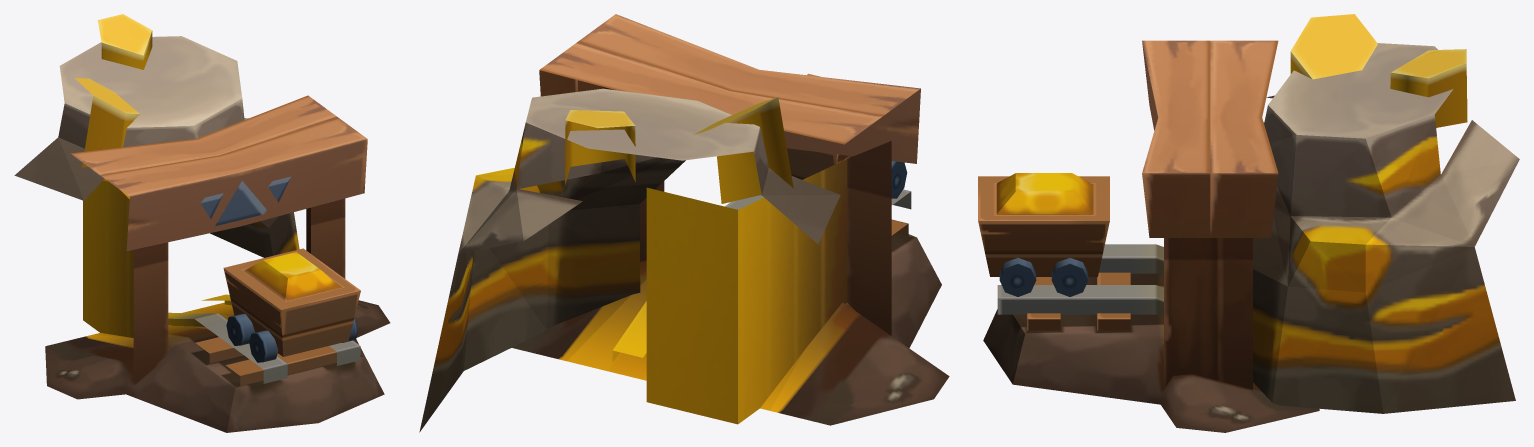
Rendered from B_Goldmin01.fbx.
The picture shows the model from 3 angles, left to right: view 1: azimuth 30°, elevation 25°; view 2: azimuth 150°, elevation 25°; view 3: azimuth 270°, elevation 25°; orthographic projection. The views are drawn at different scales.
Visible parts, largest first — view 1: B_Goldmin01_01, B_Goldmin01_02; view 2: B_Goldmin01_01, B_Goldmin01_02; view 3: B_Goldmin01_01, B_Goldmin01_02.
Part boxes in pixels (bbox=[...]): B_Goldmin01_01: bbox=[14, 14, 390, 432]; B_Goldmin01_02: bbox=[223, 248, 360, 362]; B_Goldmin01_01: bbox=[419, 14, 949, 432]; B_Goldmin01_02: bbox=[761, 73, 907, 198]; B_Goldmin01_01: bbox=[983, 14, 1519, 432]; B_Goldmin01_02: bbox=[978, 173, 1109, 296].
Size of the model in its own units: 3.76 by 2.71 by 4.65.
Materials: 1 (1 with a texture image).
